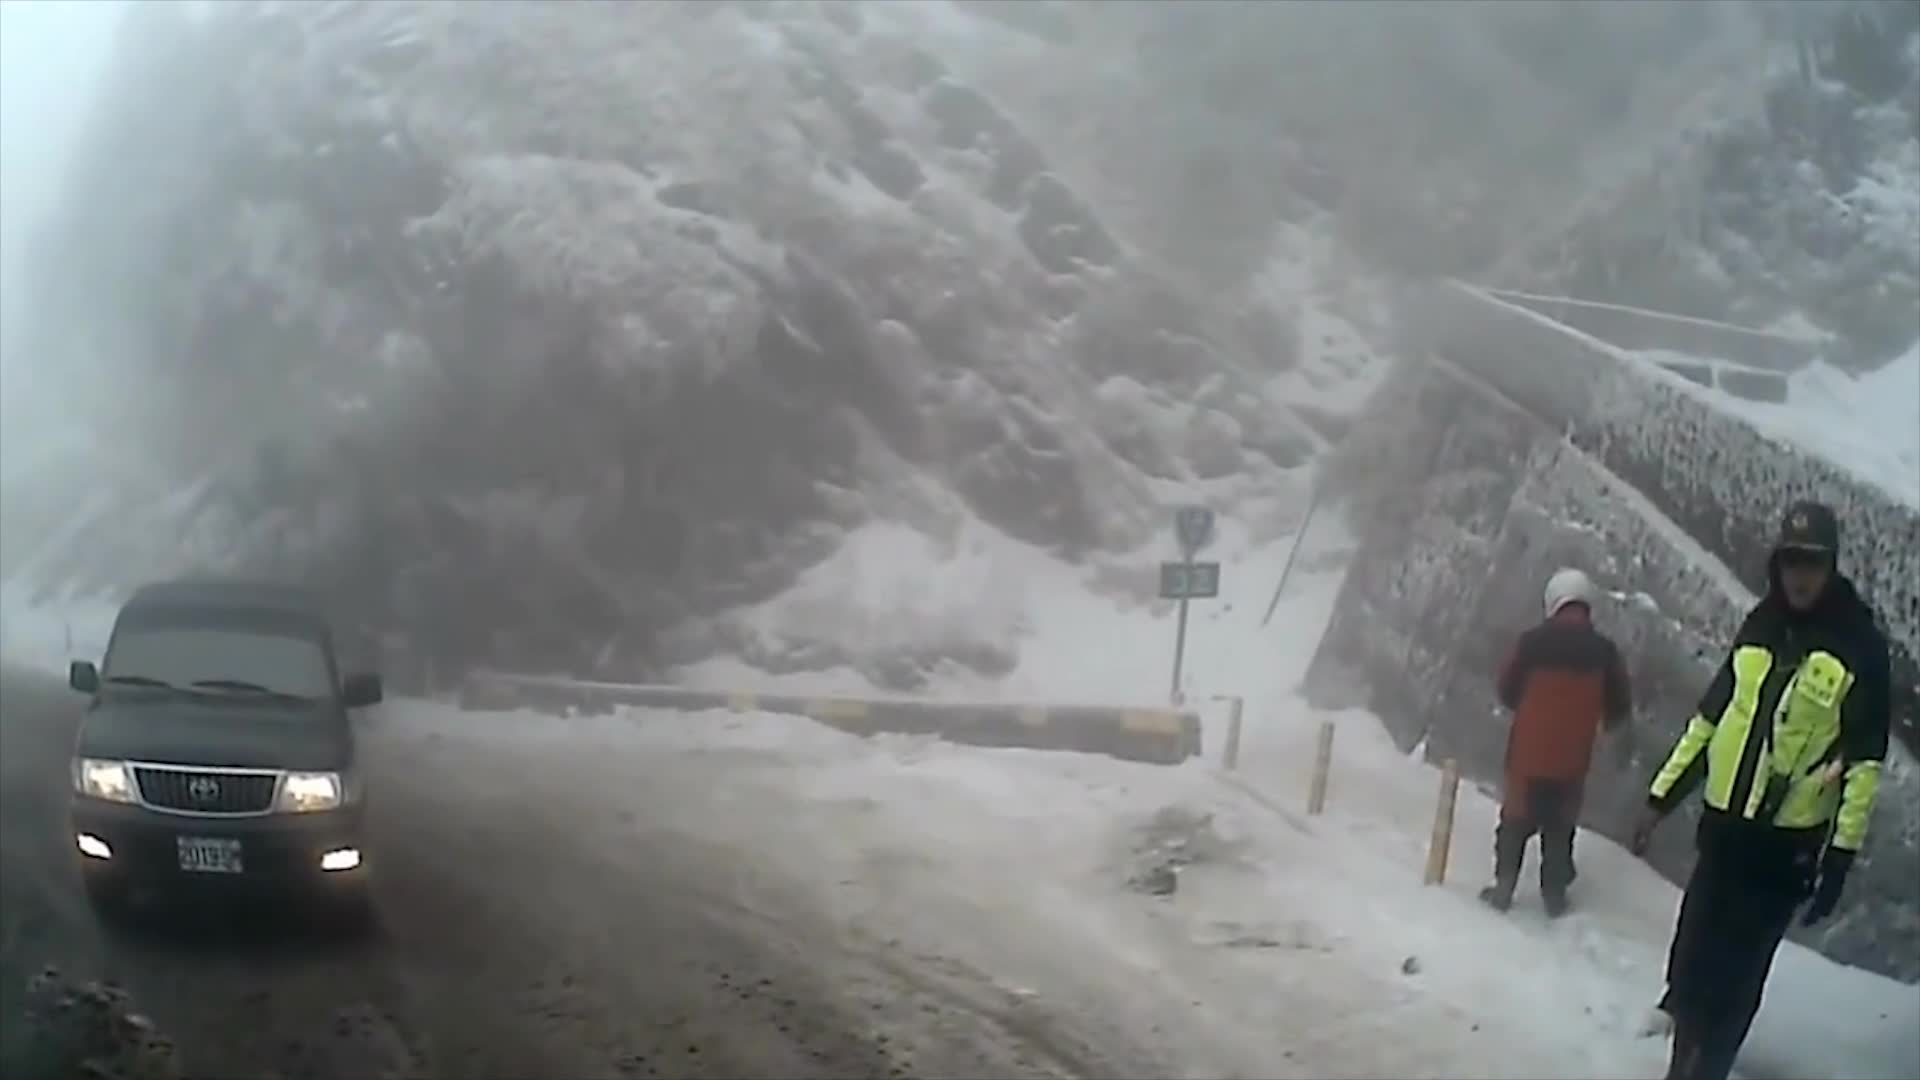pedestrian: (1619, 506, 1890, 1080), (1476, 560, 1634, 918)
vehicle: (65, 577, 382, 940)
